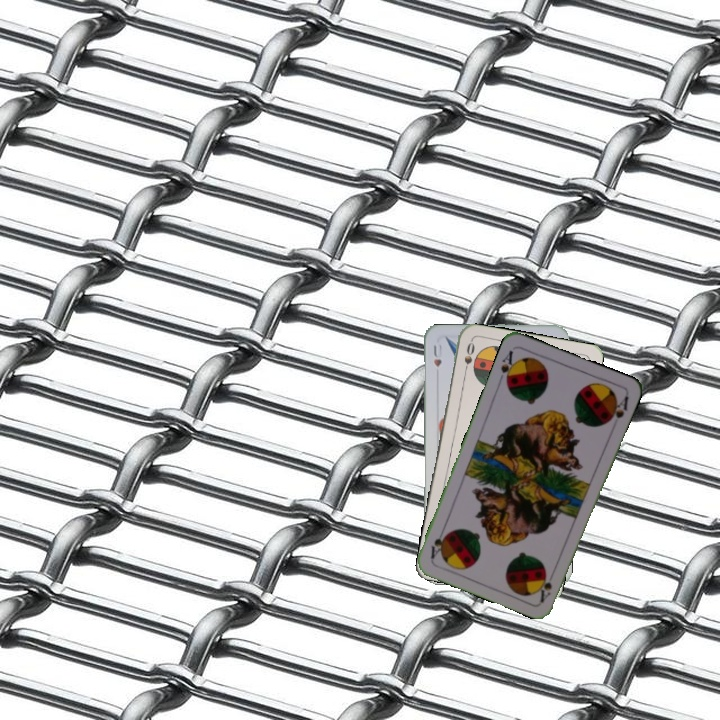HU: (430, 340, 444, 369)
SA: (497, 346, 519, 387), (536, 565, 558, 604)
SO: (460, 338, 477, 378)
